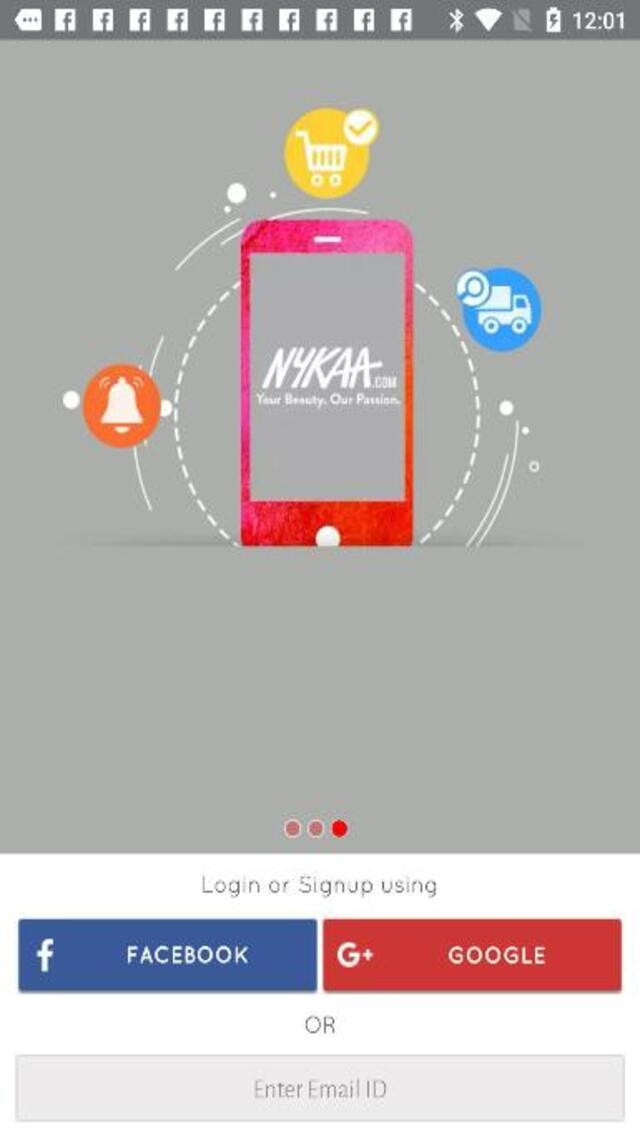Icon: (334, 938, 373, 971), (35, 933, 58, 974)
Image: (61, 106, 541, 547)
Text: (202, 875, 436, 896), (124, 944, 252, 965), (256, 1078, 386, 1098), (446, 944, 547, 966), (306, 1015, 336, 1033)
TextButton: (323, 919, 621, 994), (19, 919, 317, 994)
